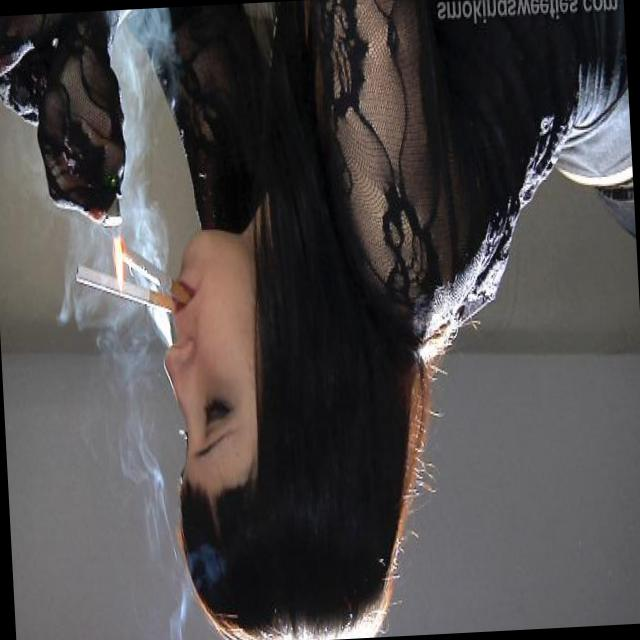smoke: (58, 230, 194, 318)
